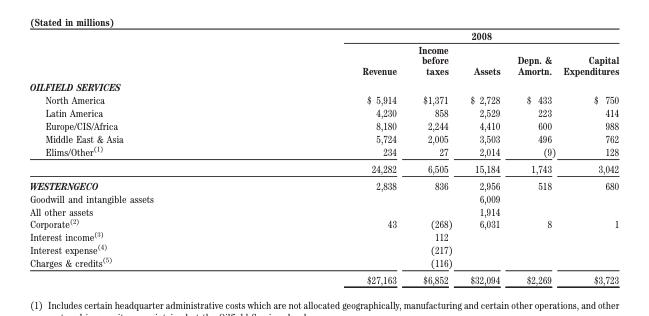table: (29, 29, 618, 285)
table column: (29, 29, 257, 285), (257, 29, 406, 285), (558, 29, 618, 285), (406, 29, 460, 285), (508, 29, 558, 285), (460, 29, 508, 285)
table column header: (29, 29, 618, 78)
table projected row header: (29, 78, 618, 93)
table row: (29, 42, 618, 78), (29, 159, 618, 176), (29, 78, 618, 93), (29, 144, 618, 159), (29, 176, 618, 191), (29, 255, 618, 270), (29, 270, 618, 285), (29, 29, 618, 42), (29, 93, 618, 106), (29, 106, 618, 119), (29, 119, 618, 132), (29, 191, 618, 204), (29, 216, 618, 229), (29, 229, 618, 242), (29, 242, 618, 255), (29, 132, 618, 144), (29, 204, 618, 216)
table spanning cell: (257, 29, 618, 42)
